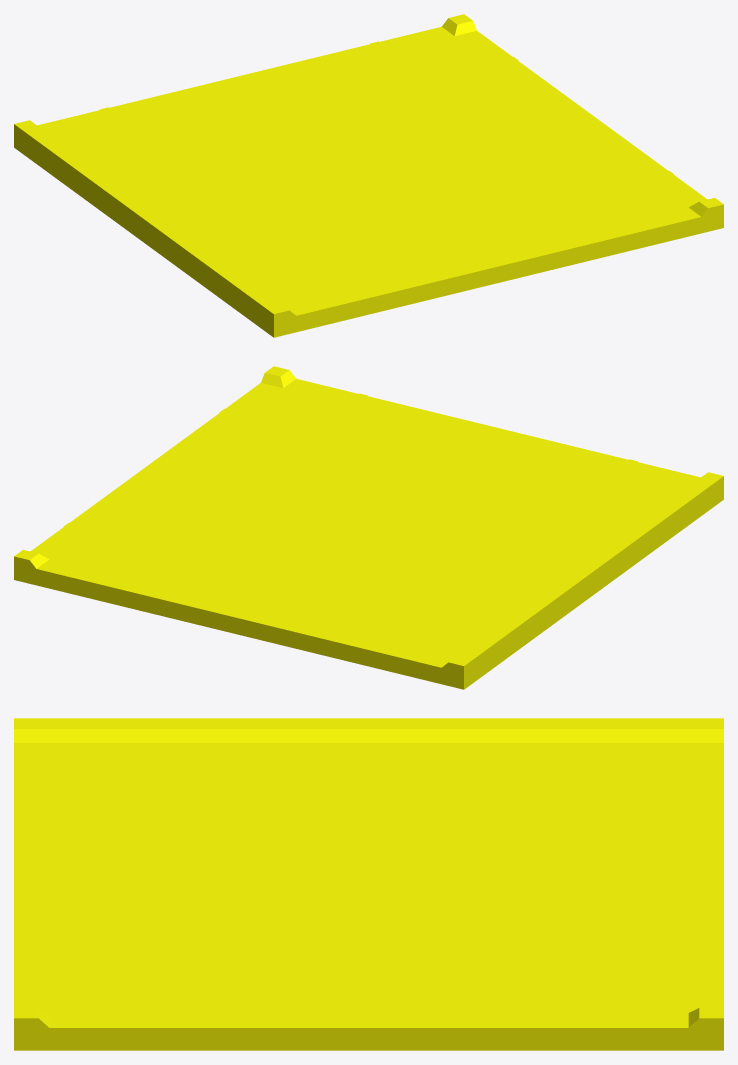
File: kaykit-road-tsplit.glb
3 renders of one model, top to bottom at view 1: azimuth 30°, elevation 25°; view 2: azimuth 150°, elevation 25°; view 3: azimuth 270°, elevation 25°, orthographic. The views are drawn at different scales.
Visible parts, largest first — view 1: road_tsplit; view 2: road_tsplit; view 3: road_tsplit.
Part boxes in pixels (bbox=[...]): road_tsplit: bbox=[14, 14, 723, 337]; road_tsplit: bbox=[14, 366, 723, 689]; road_tsplit: bbox=[14, 718, 723, 1050].
Size of the model in its own units: 2 by 0.1001 by 2.
